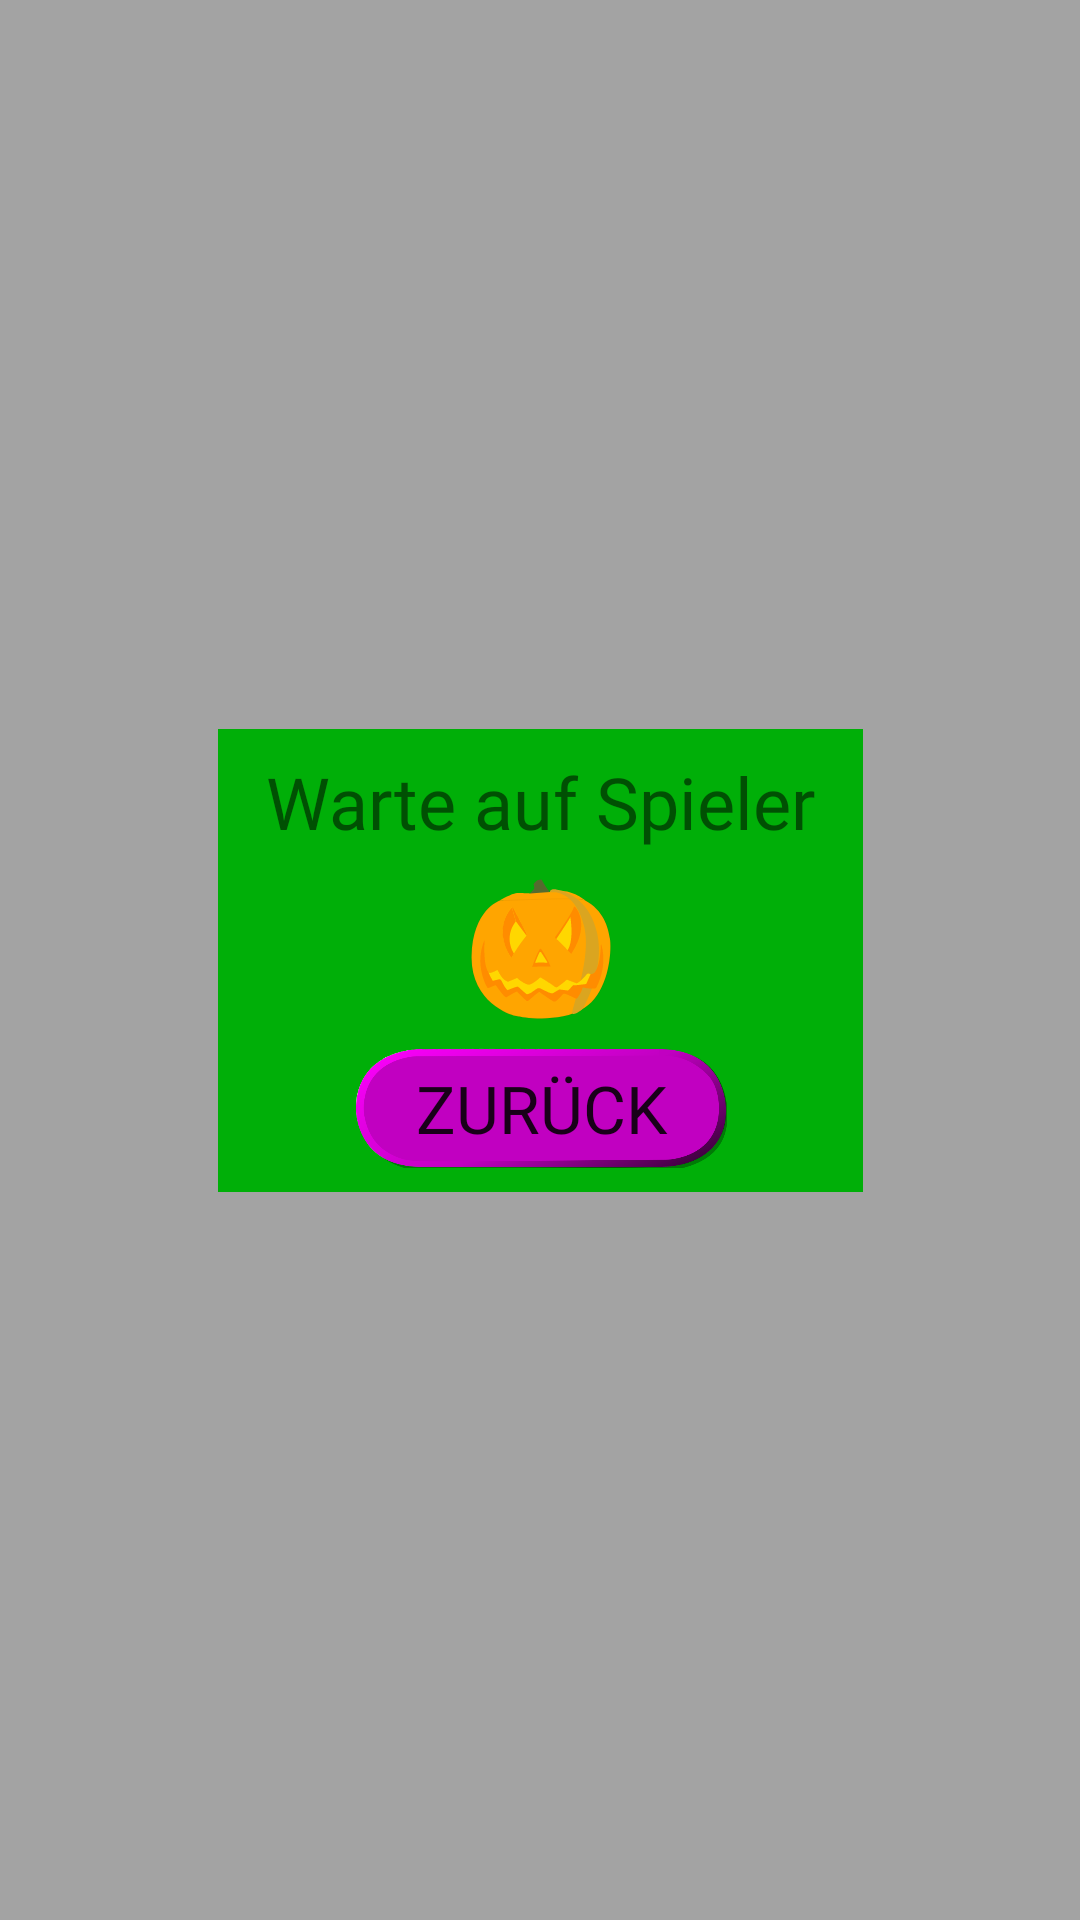

Icon click points for this 1080 × 1920 phone screenshot, format (x,y):
spooky kurbis 3d: (541,949)
